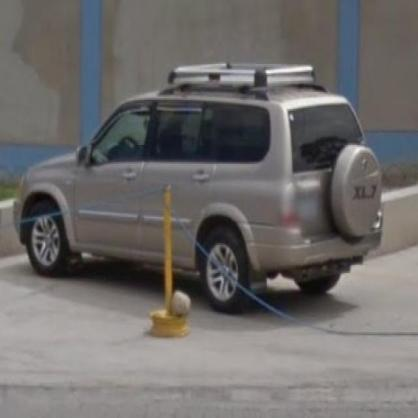car: (14, 65, 386, 308)
